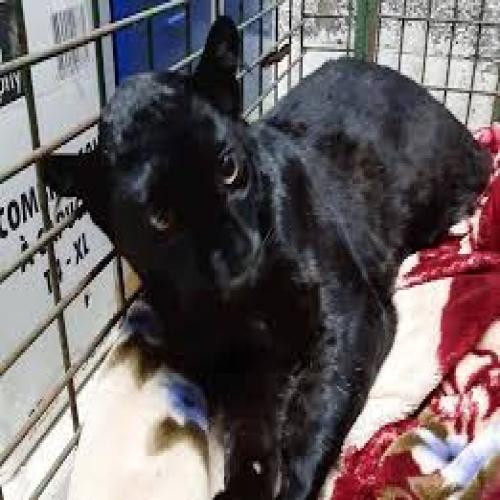panther-endangered: (38, 14, 479, 500)
